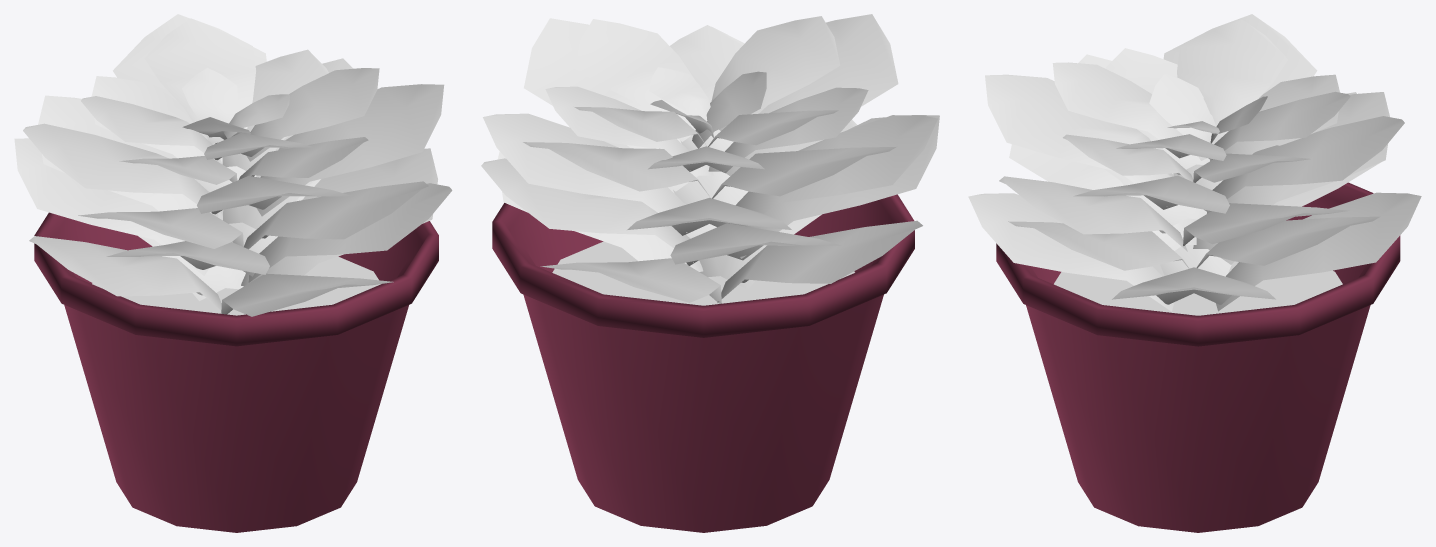
Rendered from PottedPlant 1.fbx.
3 views of the same model, side by side, from view 1: azimuth 30°, elevation 25°; view 2: azimuth 150°, elevation 25°; view 3: azimuth 270°, elevation 25° (orthographic). The views are drawn at different scales.
Parts seen in each view (by area): view 1: Pot, Leaf.011, Leaf.010, Leaf, Leaf.022, Leaf.012, Leaf.005, Leaf.020, Leaf.004, Leaf.001, Leaf.021, Leaf.003 (+17 smaller); view 2: Pot, Leaf.014, Leaf.015, Leaf, Leaf.023, Leaf.006, Leaf.020, Leaf.008, Leaf.010, Leaf.011, Dirt, Leaf.009 (+15 smaller); view 3: Pot, Leaf.008, Leaf.021, Leaf.002, Leaf.009, Leaf.003, Leaf.012, Dirt, Leaf.023, Leaf.006, Leaf.004, Leaf.022 (+16 smaller).
Boxes of the visible parts, x1,y1,x2,y2 form: Pot: [34, 212, 438, 532]; Leaf.011: [256, 84, 444, 216]; Leaf.010: [23, 123, 218, 217]; Leaf: [29, 236, 221, 310]; Leaf.022: [144, 18, 255, 144]; Leaf.012: [244, 181, 428, 249]; Leaf.005: [14, 138, 208, 275]; Leaf.020: [246, 68, 379, 161]; Leaf.004: [248, 183, 452, 282]; Leaf.001: [241, 148, 437, 286]; Leaf.021: [81, 96, 219, 162]; Leaf.003: [221, 273, 393, 316]; Pot: [492, 194, 914, 532]; Leaf.014: [483, 113, 687, 232]; Leaf.015: [735, 115, 937, 213]; Leaf: [717, 220, 922, 302]; Leaf.023: [711, 16, 840, 130]; Leaf.006: [481, 158, 693, 262]; Leaf.020: [574, 19, 695, 141]; Leaf.008: [708, 14, 898, 176]; Leaf.010: [712, 147, 896, 198]; Leaf.011: [524, 18, 713, 191]; Dirt: [552, 241, 854, 305]; Leaf.009: [523, 142, 710, 197]; Pot: [996, 182, 1400, 532]; Leaf.008: [985, 74, 1173, 183]; Leaf.021: [1177, 19, 1288, 141]; Leaf.002: [1216, 192, 1421, 311]; Leaf.009: [1209, 116, 1404, 211]; Leaf.003: [968, 193, 1174, 311]; Leaf.012: [999, 176, 1187, 251]; Dirt: [1054, 261, 1342, 315]; Leaf.023: [1052, 62, 1182, 139]; Leaf.006: [1196, 216, 1380, 268]; Leaf.004: [1008, 221, 1189, 270]; Leaf.022: [1212, 91, 1350, 159].
Bounding box in the file's own units: 377 × 367 × 377.
